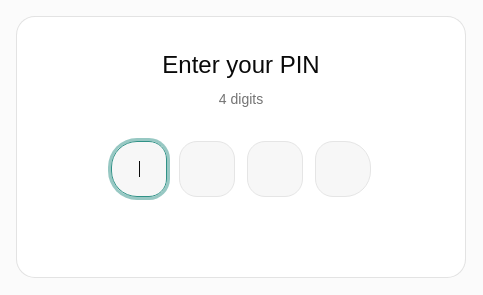
Scenario: PIN screen › shows a lockout countdown ("Try again in 1:00"), disables the field, then re-enables it
Later steps or results of the test are not shown.
Step 1. Type "0000" into the field named "PIN, 4 digits" → (261, 169), box [111, 141, 411, 197]
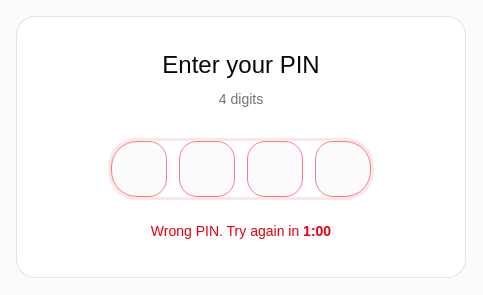
Step 2. Clear the field named "PIN, 4 digits" → (261, 169), box [111, 141, 411, 197]
Wait 5000 ms
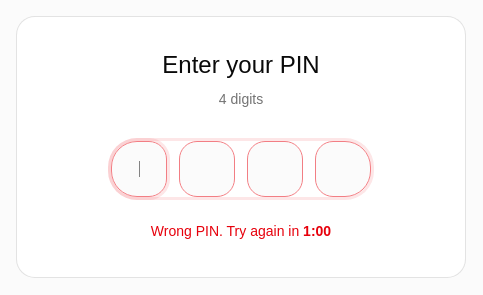
expect the text "Wrong PIN. Try again in 1:00" is shown: met, box [151, 221, 331, 241]
expect the field named "PIN, 4 digits" is disabled: met
Step 3. Clear the field named "PIN, 4 digits" → (261, 169), box [111, 141, 411, 197]
Wait 56000 ms
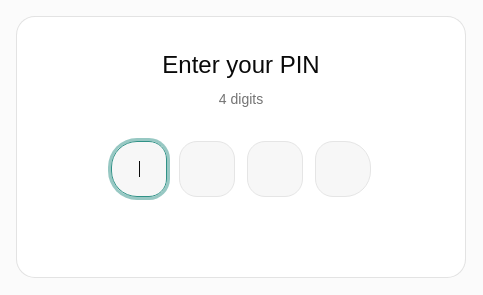
expect the field named "PIN, 4 digits" is enabled: met, box [111, 141, 411, 197]
expect the text "Try again in" is gone: met
